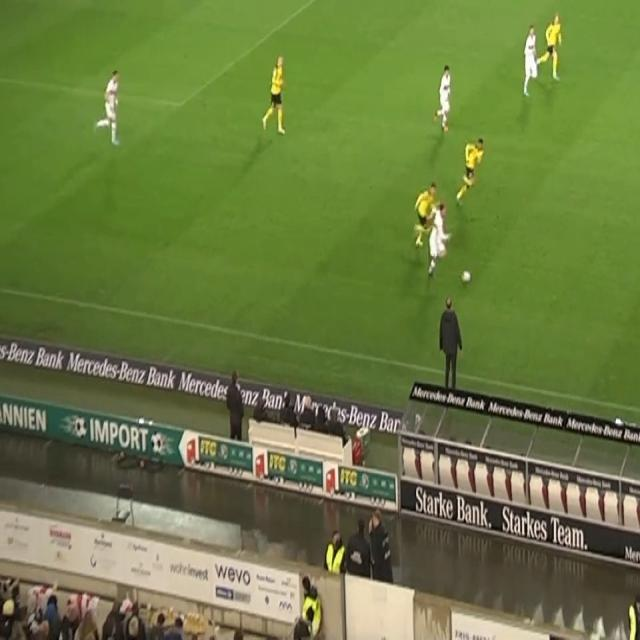ball: (461, 269, 472, 285)
